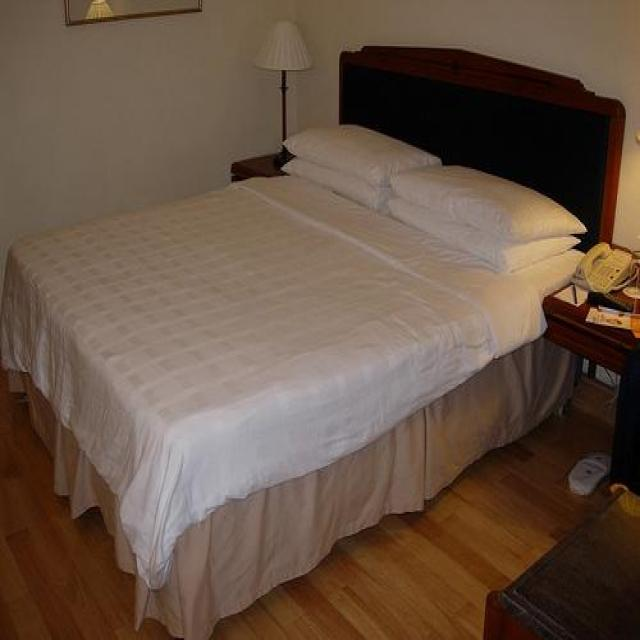bed: (3, 44, 627, 640)
